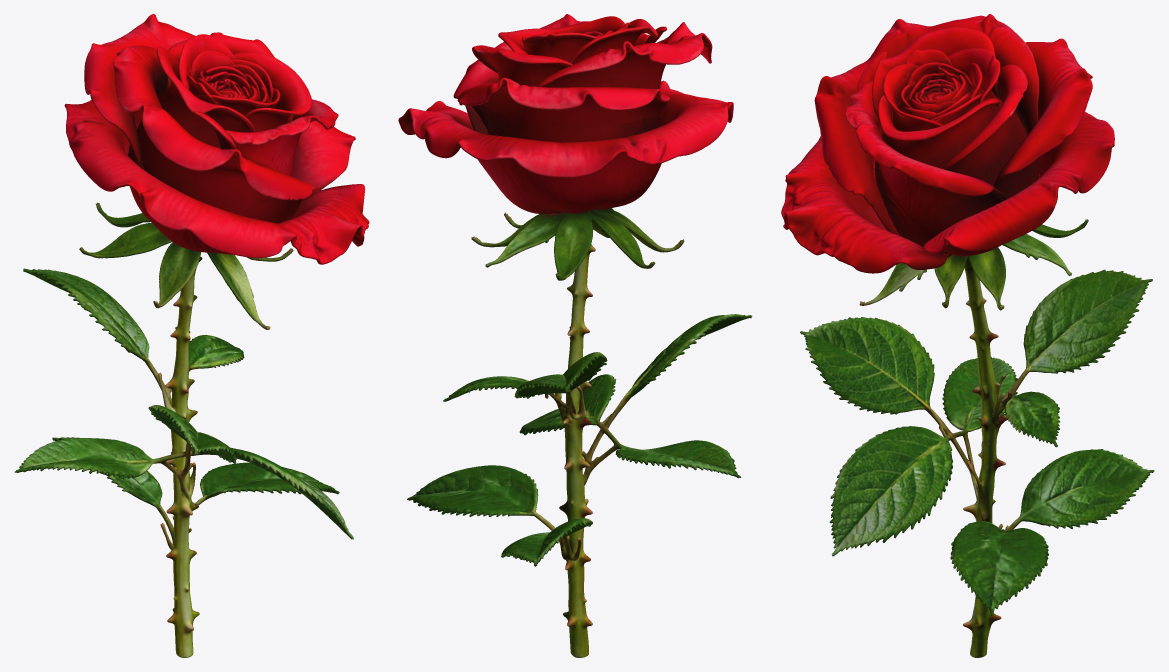
File: rose-3d.glb
3 views of the same model, side by side, from view 1: azimuth 30°, elevation 25°; view 2: azimuth 150°, elevation 25°; view 3: azimuth 270°, elevation 25° (orthographic). The views are drawn at different scales.
Visible parts, largest first — view 1: tripo_node_6b9808e6-8010-4259-afad-3a16cfcf2588; view 2: tripo_node_6b9808e6-8010-4259-afad-3a16cfcf2588; view 3: tripo_node_6b9808e6-8010-4259-afad-3a16cfcf2588.
Part boxes in pixels (x1,y1,x2,y2): tripo_node_6b9808e6-8010-4259-afad-3a16cfcf2588: (14, 14, 369, 657); tripo_node_6b9808e6-8010-4259-afad-3a16cfcf2588: (398, 14, 752, 657); tripo_node_6b9808e6-8010-4259-afad-3a16cfcf2588: (781, 14, 1154, 657).
Bounding box in the file's own units: 0.5412 × 0.9779 × 0.5376.
1 material, 1 textured.
